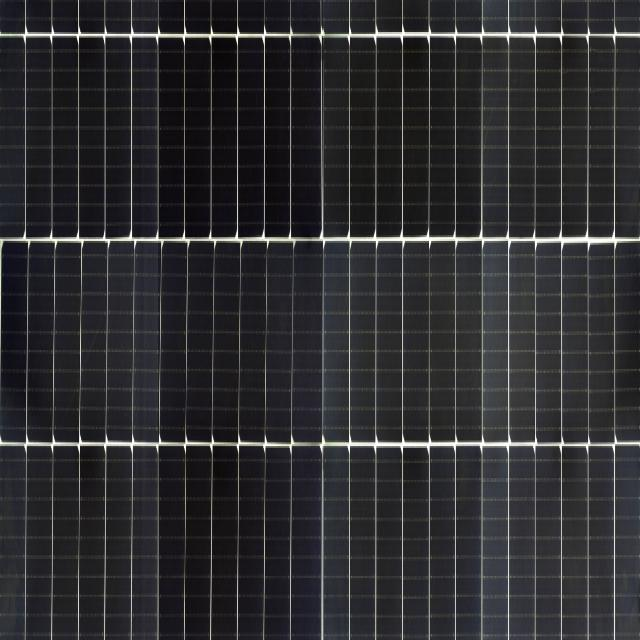MISALIGNMENT: (3, 122, 209, 333), (241, 98, 329, 299)
